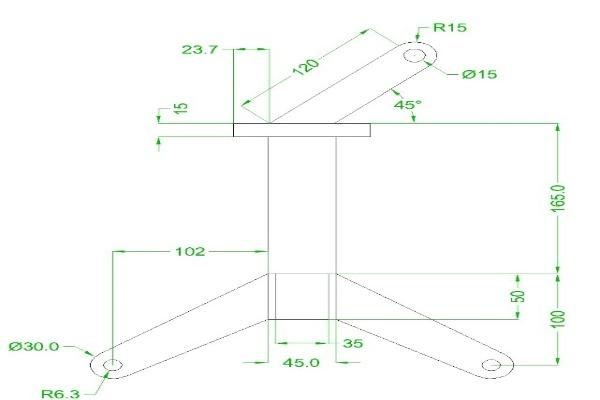dimensions: (8, 335, 62, 362), (176, 38, 222, 62), (542, 178, 568, 214), (459, 64, 501, 86), (289, 56, 326, 80), (278, 356, 326, 373), (38, 385, 88, 400), (430, 19, 470, 37), (547, 305, 570, 334), (170, 99, 194, 122), (508, 284, 528, 309), (341, 334, 366, 353)
